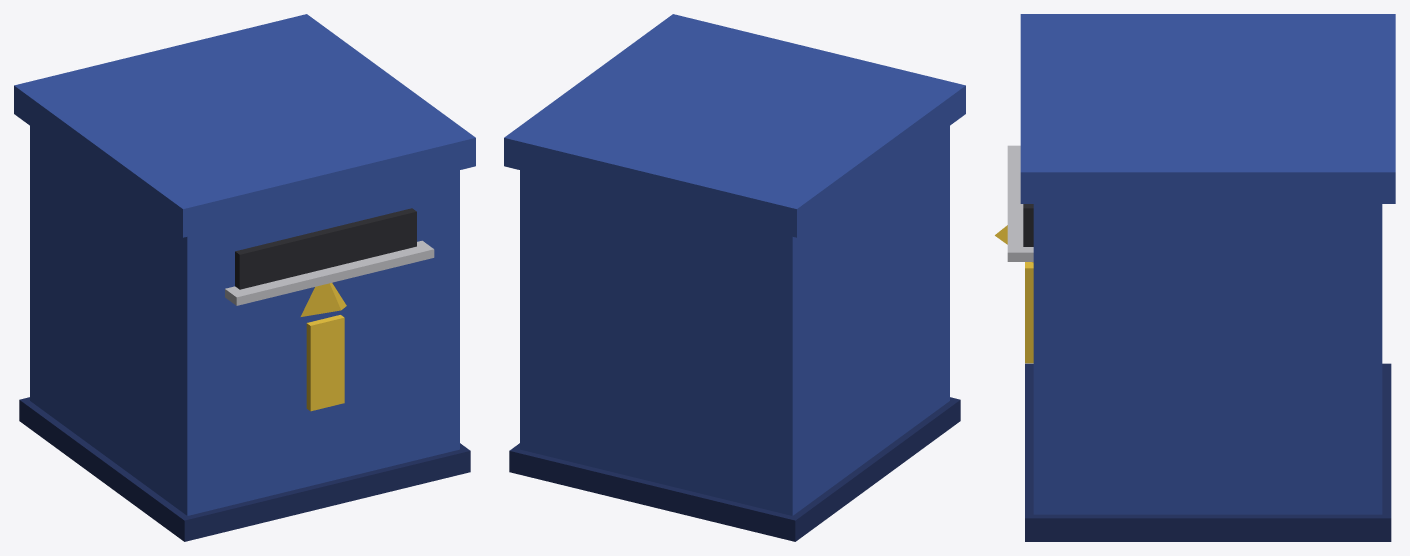
Rendered from MailChute.fbx.
3 renders of one model, left to right at view 1: azimuth 30°, elevation 25°; view 2: azimuth 150°, elevation 25°; view 3: azimuth 270°, elevation 25°, orthographic. The views are drawn at different scales.
Parts seen in each view (by area): view 1: Body, Base, Slot, Arrow, Lip; view 2: Body, Base; view 3: Body, Base, Lip, Arrow.
Boxes of the visible parts, <box> form: Body: <box>14,14,475,515</box>; Base: <box>19,397,470,541</box>; Slot: <box>235,208,416,289</box>; Arrow: <box>300,283,346,411</box>; Lip: <box>225,240,434,305</box>; Body: <box>504,14,965,515</box>; Base: <box>509,397,960,541</box>; Body: <box>1020,14,1395,514</box>; Base: <box>1025,363,1391,541</box>; Lip: <box>1007,145,1033,261</box>; Arrow: <box>995,225,1033,363</box>.
Bounding box in the file's own units: 4.3 × 4.7 × 4.6.
